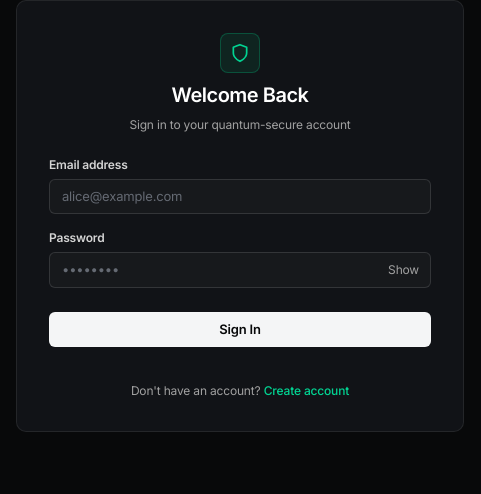
LoginForm Component › displays client-side validation errors on empty submission
Click the button "Sign In" at (240, 329), box [49, 312, 431, 347]
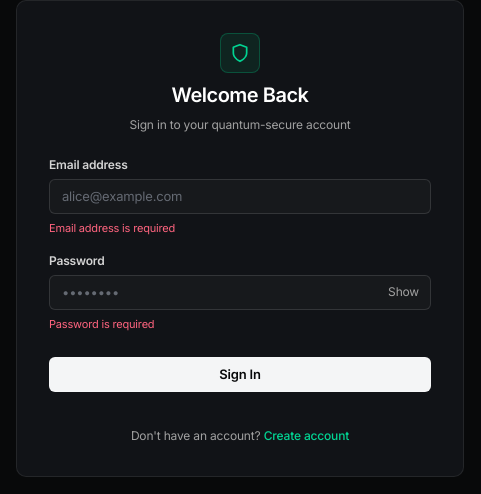
Expected: the text "Email address is required" is shown, [49, 221, 175, 235]
Expected: the text "Password is required" is shown, [49, 317, 154, 331]
